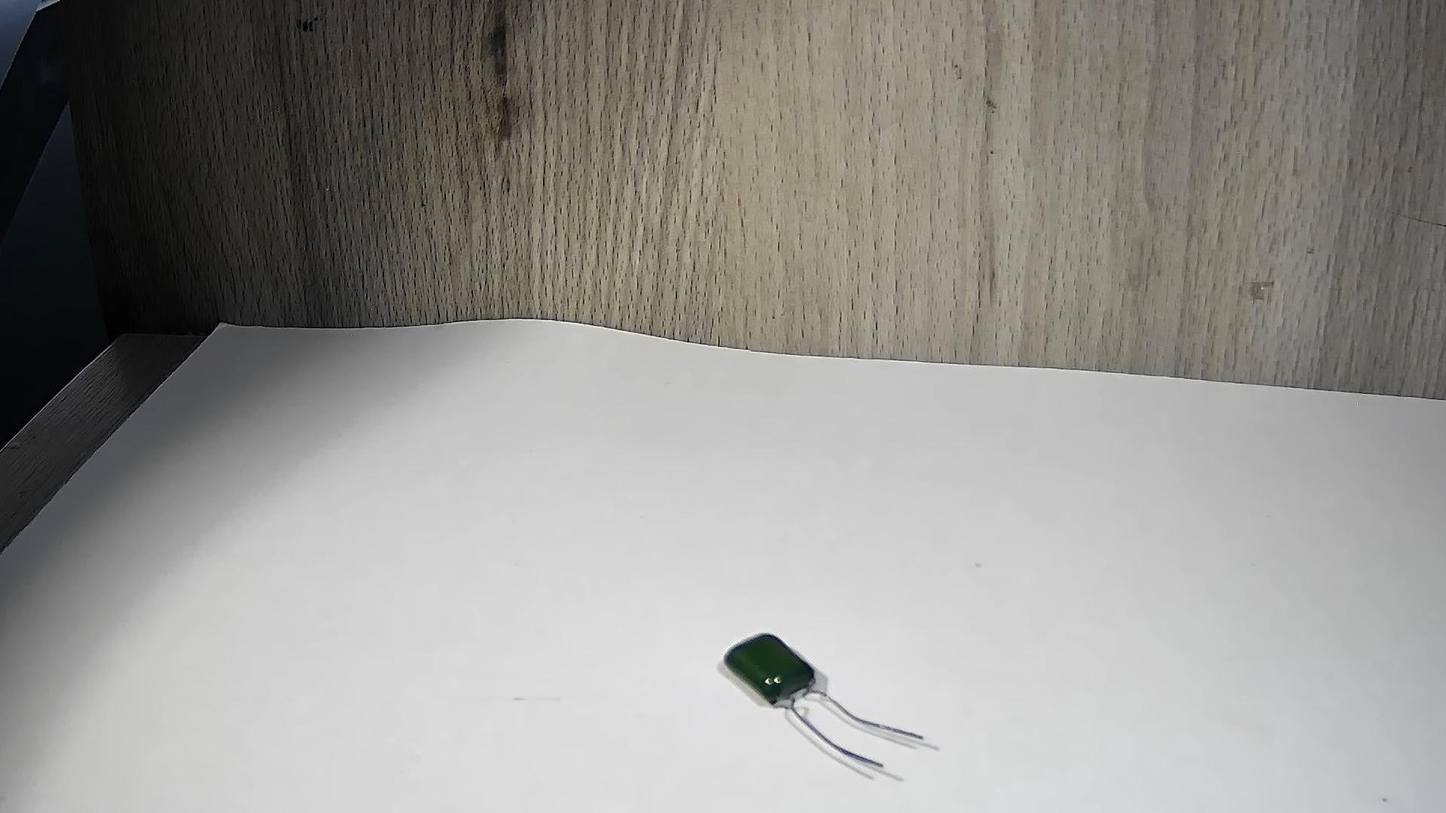capacitor ceramico: (676, 553, 1010, 813)
